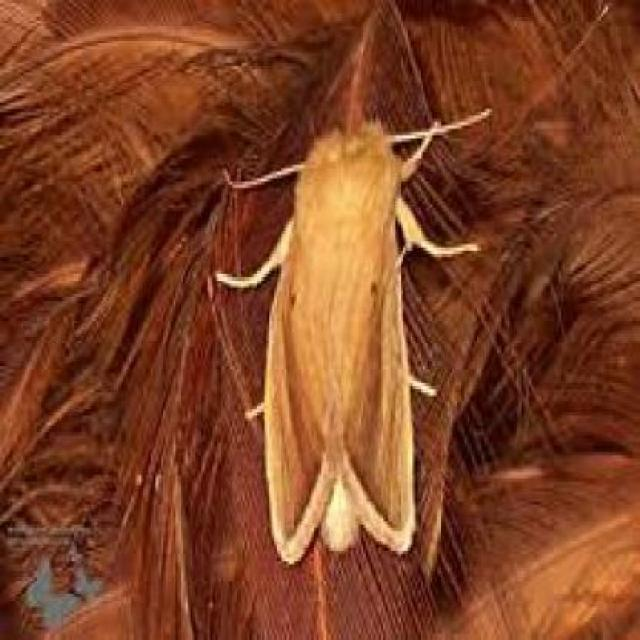stem-borer: (256, 111, 422, 572)
